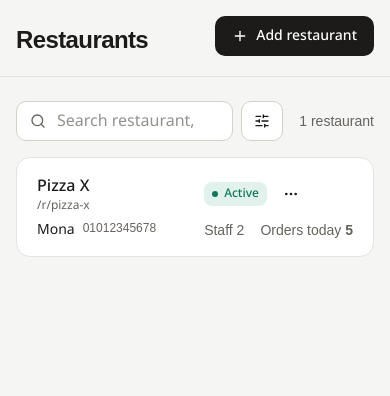
AdminRestaurants › suspends an active restaurant
Click the button named "Actions: Pizza X". click: (291, 194)
box: [275,178,307,210]
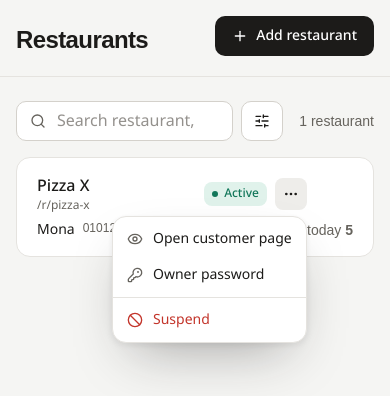
Click the menu item "Suspend". click: (168, 320)
box: [127,305,210,334]
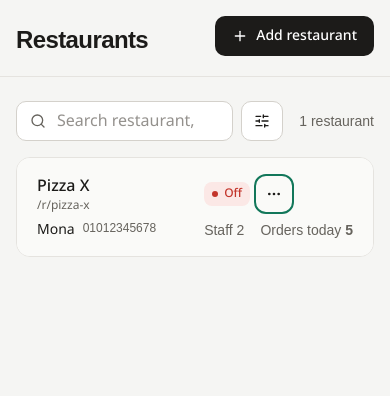
Click the button named "Actions: Pizza X". click: (274, 194)
box: [258,178,290,210]
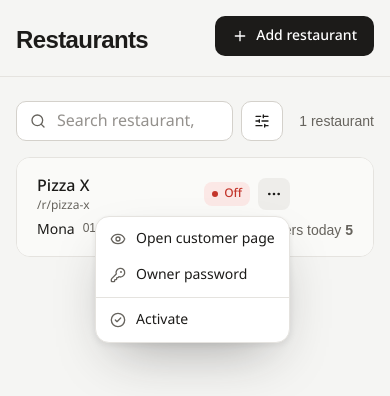
Now the menu item "Activate" is shown, box [110,305,188,334]
